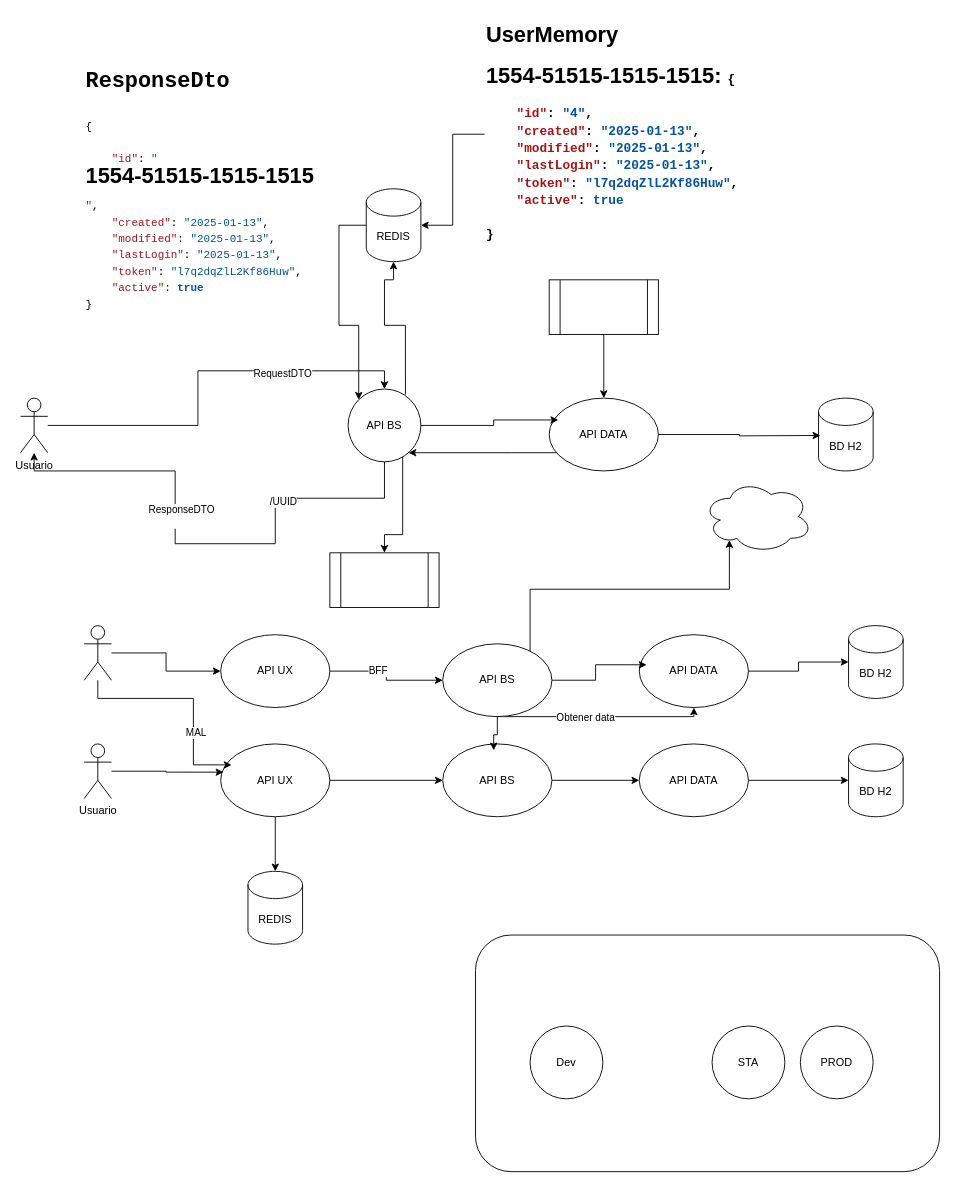
The diagram is 956 pixels wide and 1188 high, and some of its shapes have lost their labels. Each missing label, with the box of its shape:
Generar Token: (329, 552, 439, 607)
Perfiles: (83, 625, 111, 680)
RequestDTO - Entity: (548, 279, 658, 334)
